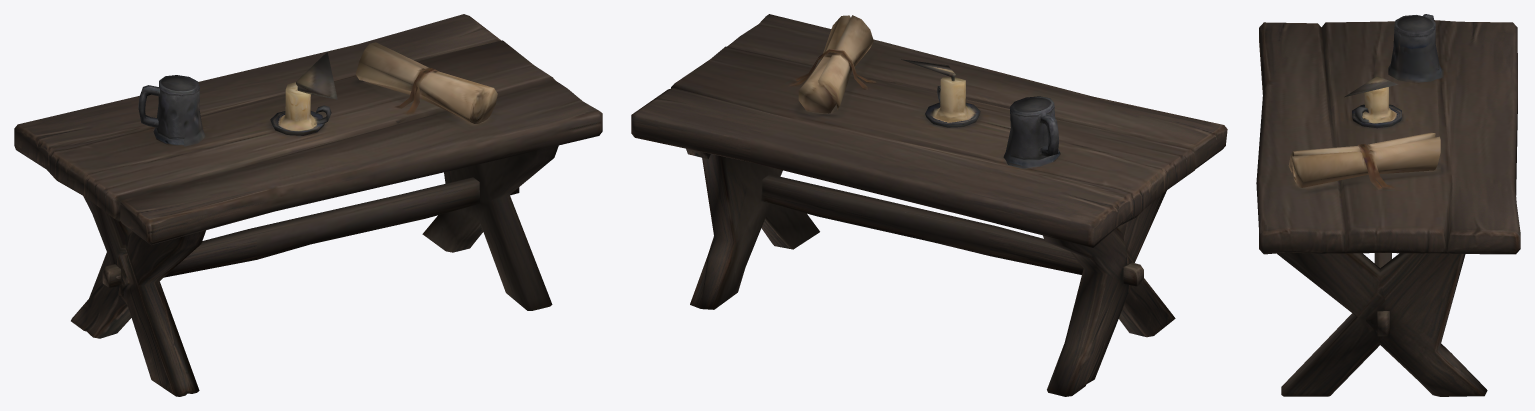
File: tavolo.fbx
3 views of the same model, side by side, from view 1: azimuth 30°, elevation 25°; view 2: azimuth 150°, elevation 25°; view 3: azimuth 270°, elevation 25° (orthographic). The views are drawn at different scales.
Parts seen in each view (by area): view 1: tripo_node_c5e505ac; view 2: tripo_node_c5e505ac; view 3: tripo_node_c5e505ac.
Part boxes in pixels (x1,y1,x2,y2): tripo_node_c5e505ac: (14,14,602,396); tripo_node_c5e505ac: (631,14,1227,396); tripo_node_c5e505ac: (1256,14,1520,396).
Size of the model in its own units: 0.9995 by 0.52 by 0.5249.
Materials: 1 (1 with a texture image).
